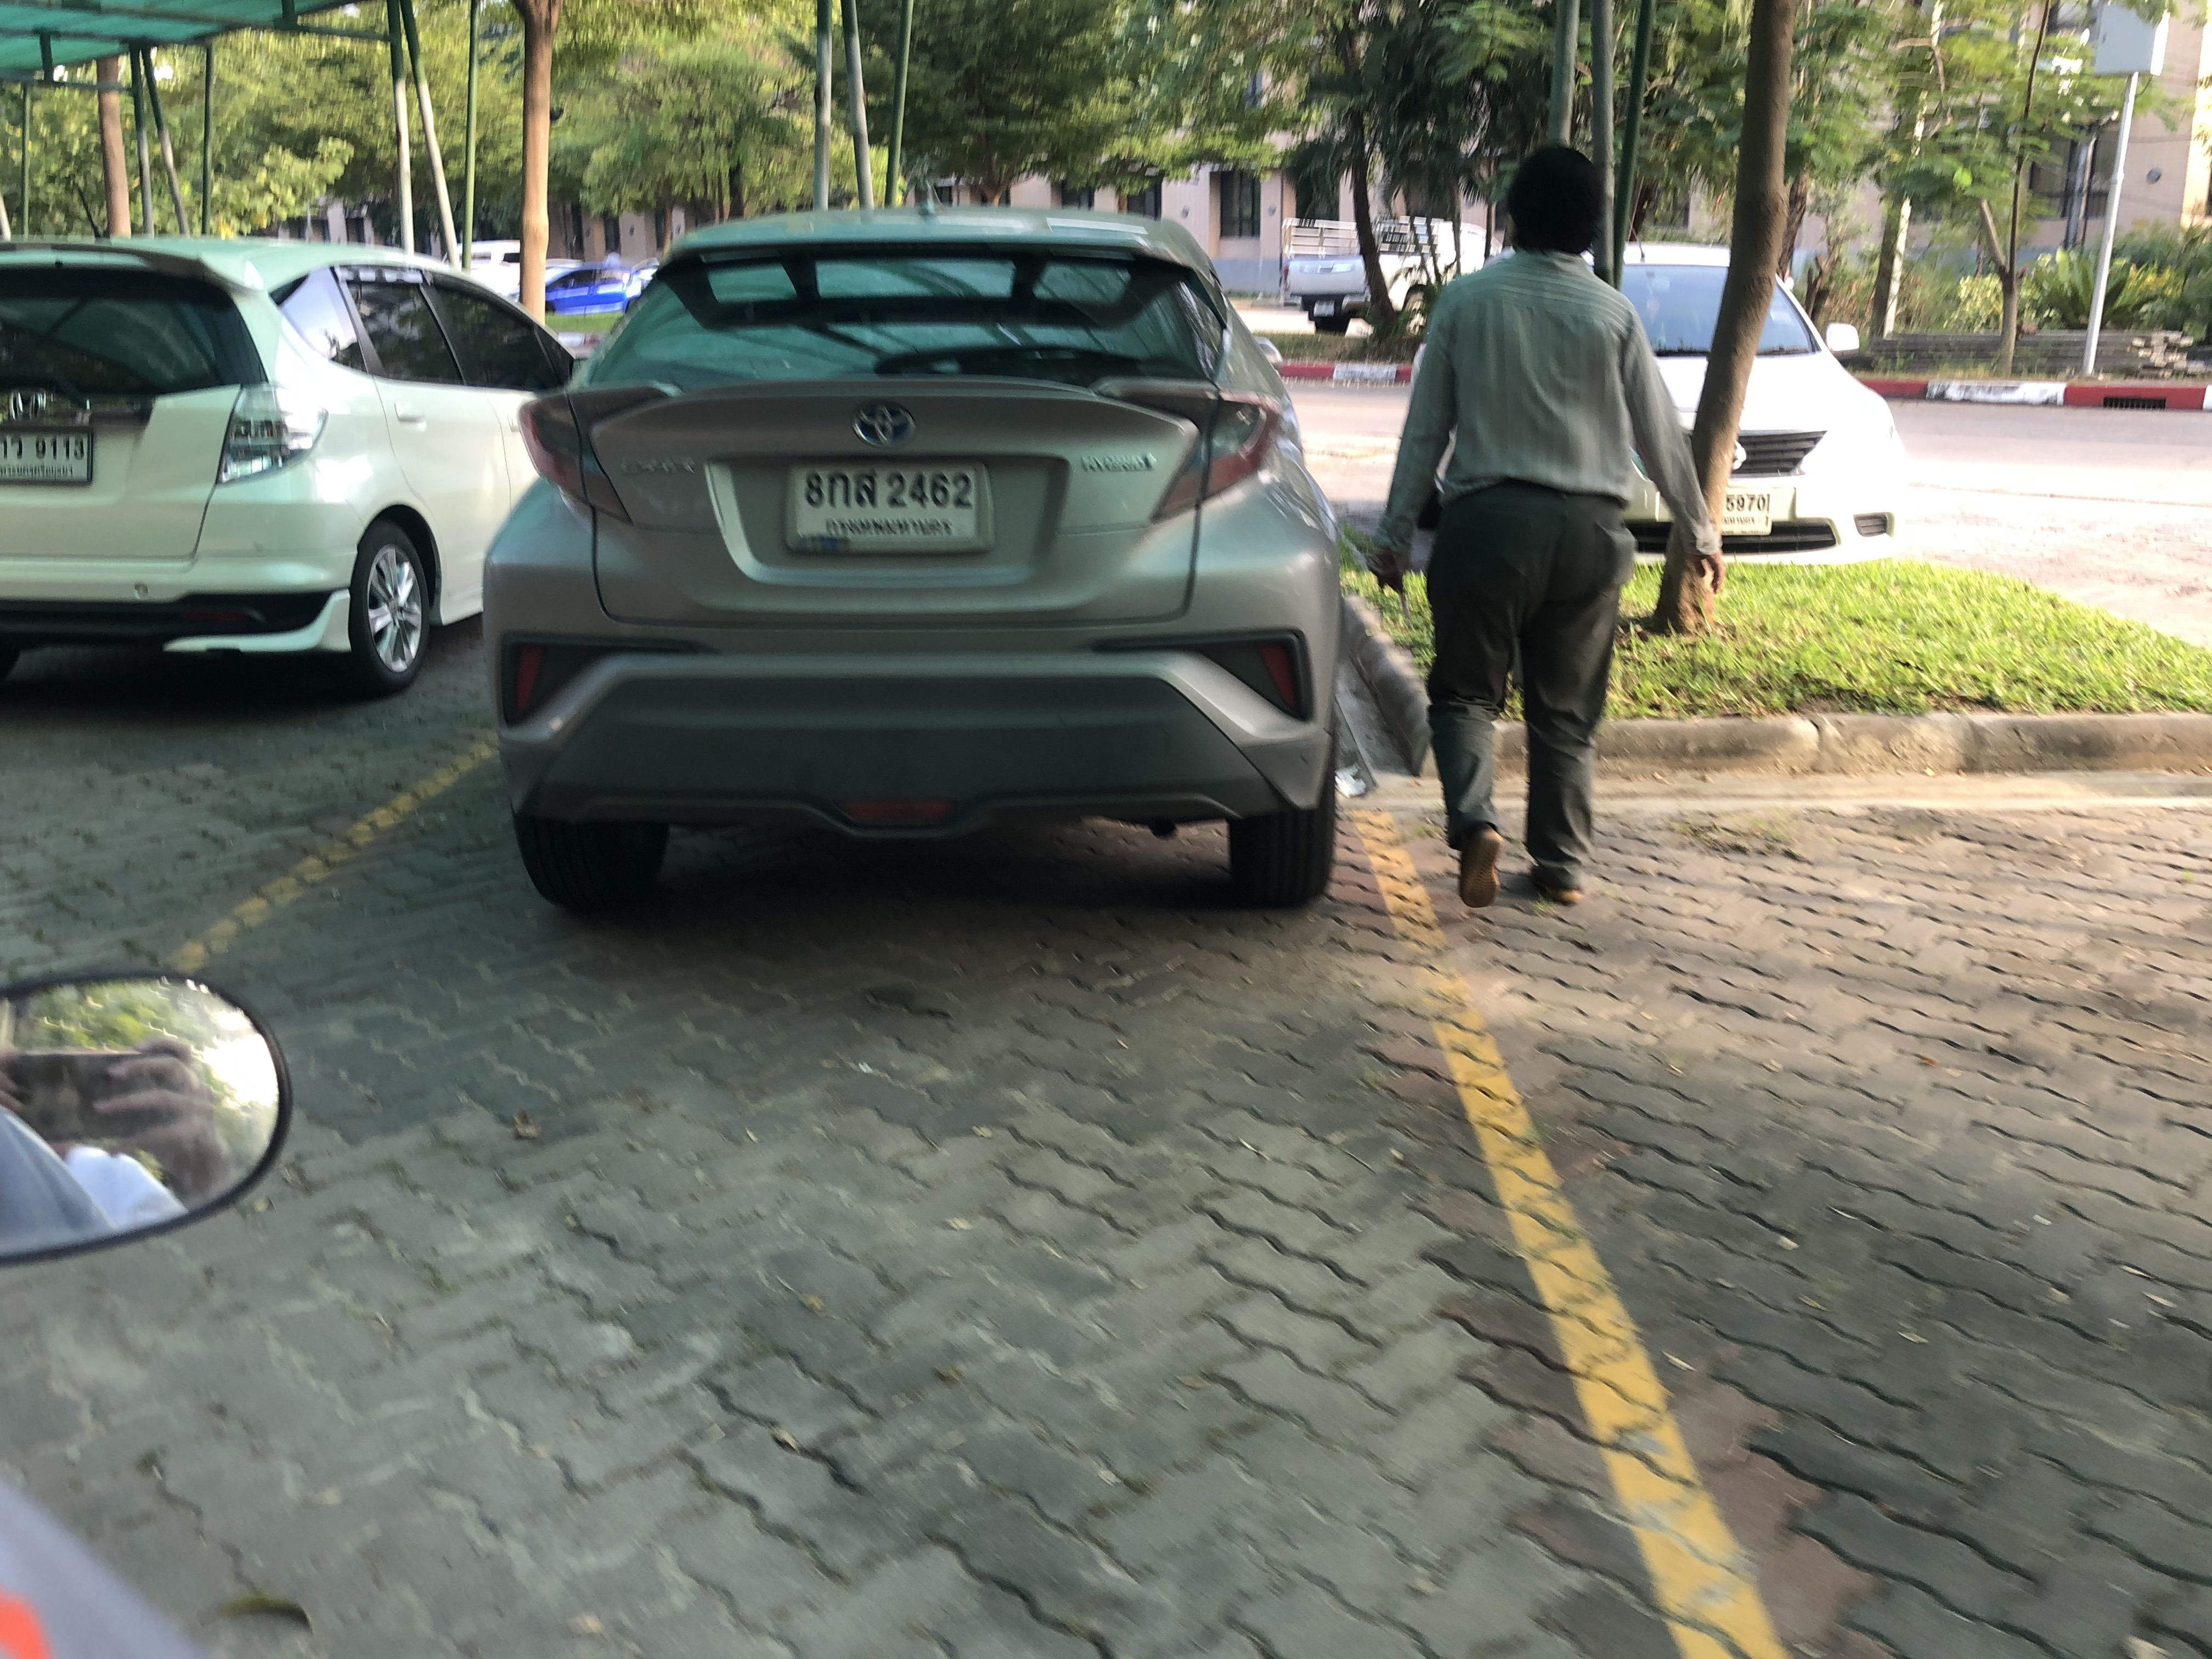in: (794, 467, 974, 540)
out: (782, 460, 998, 561)
